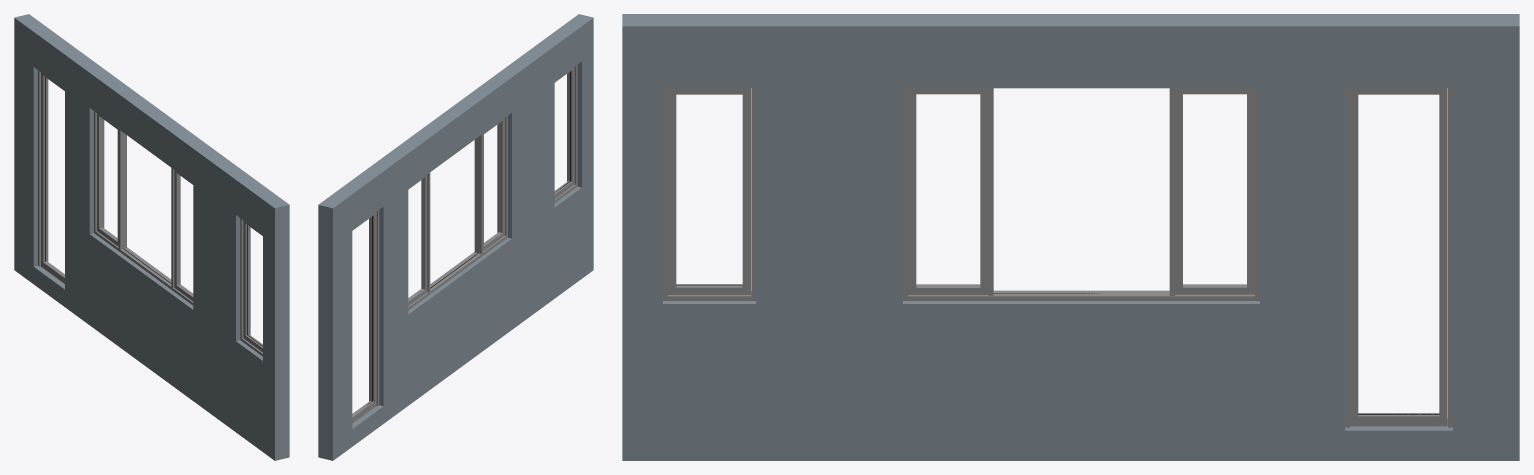
Rendered from fenetre 2.FBX.
The picture shows the model from 3 angles, left to right: view 1: azimuth 30°, elevation 25°; view 2: azimuth 150°, elevation 25°; view 3: azimuth 270°, elevation 25°; orthographic projection. The views are drawn at different scales.
Parts seen in each view (by area): view 1: Object004; view 2: Object004; view 3: Object004.
Part boxes in pixels (x1,y1,x2,y2): Object004: (14,14,289,460); Object004: (318,14,593,460); Object004: (622,14,1519,460).
Bounding box in the file's own units: 1.26 × 20.64 × 38.61.
